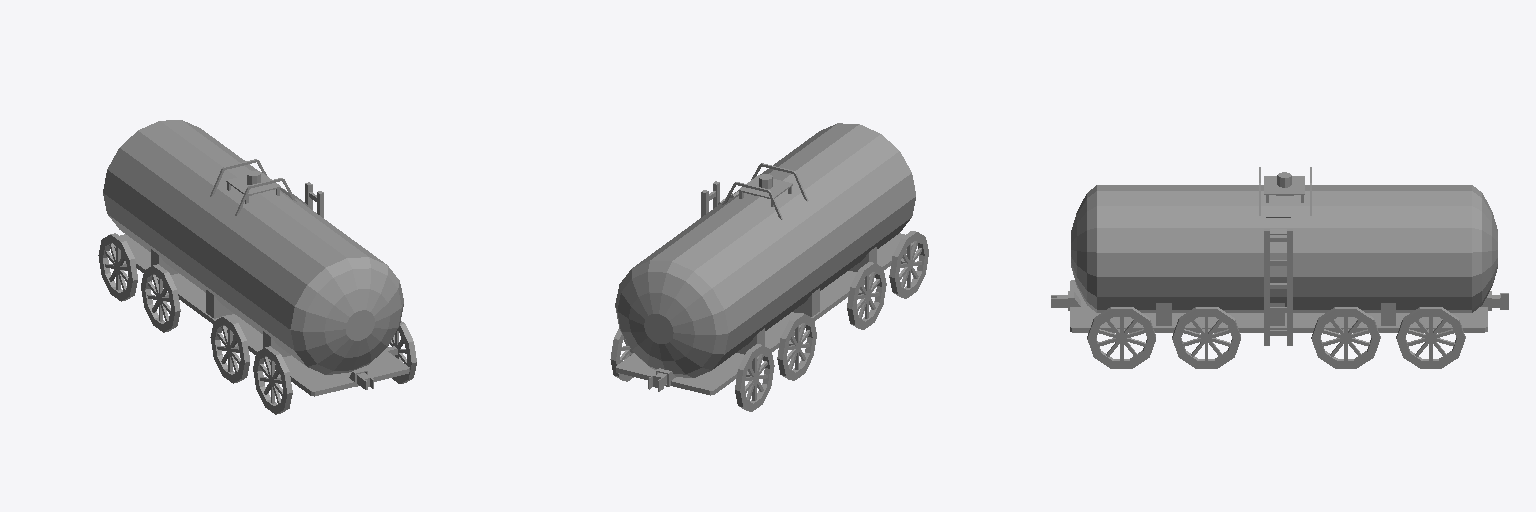
Rendered from tanker.obj.
The picture shows the model from 3 angles: view 1: azimuth 30°, elevation 25°; view 2: azimuth 150°, elevation 25°; view 3: azimuth 270°, elevation 25°; orthographic projection.
Parts seen in each view (by area): view 1: Plane.011_Plane.009_Plane.011_Plane.011; view 2: Plane.011_Plane.009_Plane.011_Plane.011; view 3: Plane.011_Plane.009_Plane.011_Plane.011.
Part boxes in pixels (left/top/right/bottom): Plane.011_Plane.009_Plane.011_Plane.011: left=98, top=120, right=416, bottom=414; Plane.011_Plane.009_Plane.011_Plane.011: left=610, top=123, right=928, bottom=411; Plane.011_Plane.009_Plane.011_Plane.011: left=1051, top=167, right=1508, bottom=368.
Bounding box in the file's own units: 5.29 × 6.33 × 16.14.